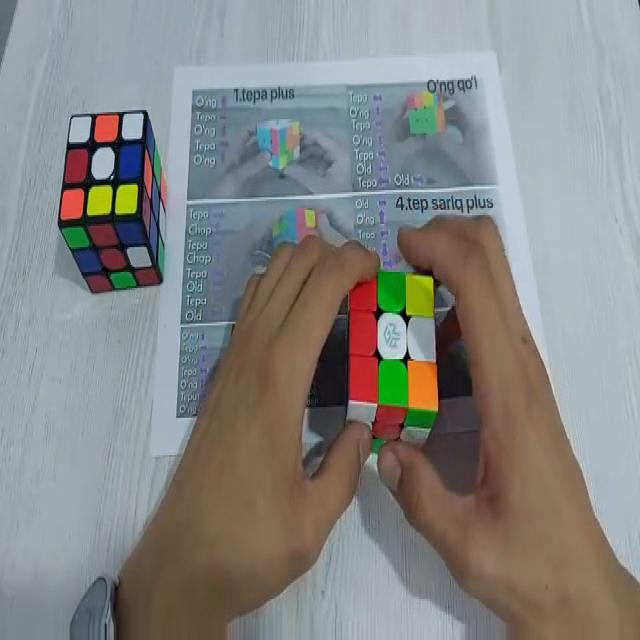Rub: (59, 107, 168, 291), (344, 262, 441, 456)
